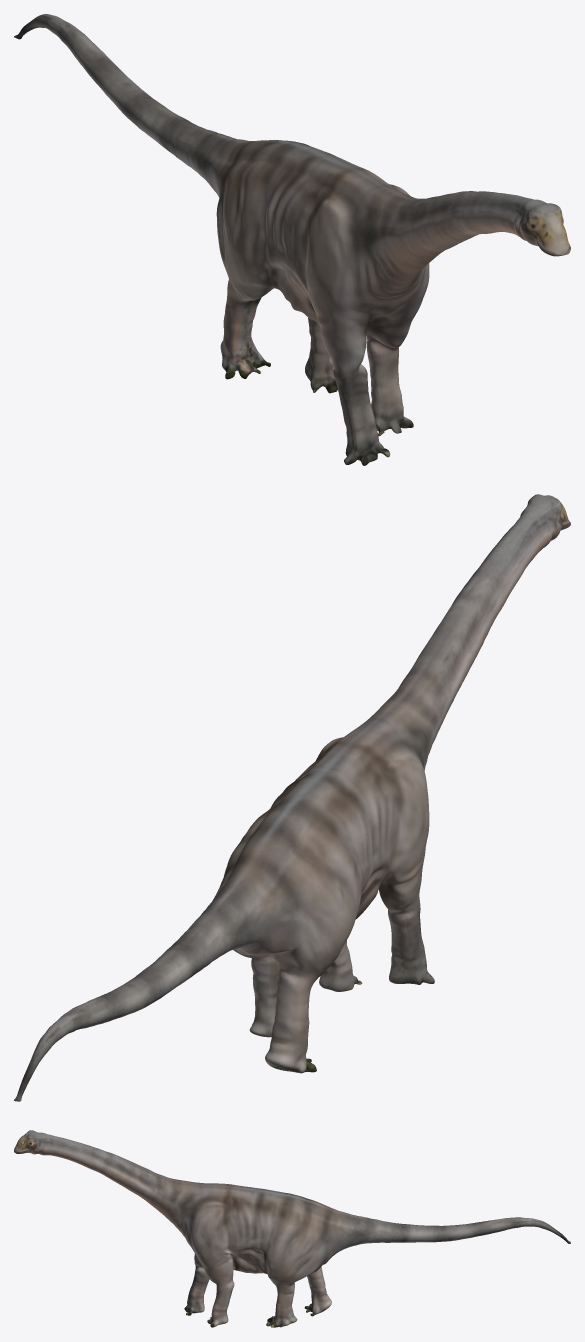
Rendered from Phuwiangosaurus_sirindhornae.glb.
The picture shows the model from 3 angles, top to bottom: view 1: azimuth 30°, elevation 25°; view 2: azimuth 150°, elevation 25°; view 3: azimuth 270°, elevation 25°; orthographic projection. The views are drawn at different scales.
Visible parts, largest first — view 1: tripo_node_db02496a-e2ba-4d2b-9181-2ccbf396bb56; view 2: tripo_node_db02496a-e2ba-4d2b-9181-2ccbf396bb56; view 3: tripo_node_db02496a-e2ba-4d2b-9181-2ccbf396bb56.
Boxes of the visible parts, left/top/right/bottom form: tripo_node_db02496a-e2ba-4d2b-9181-2ccbf396bb56: left=14, top=14, right=570, bottom=465; tripo_node_db02496a-e2ba-4d2b-9181-2ccbf396bb56: left=14, top=494, right=570, bottom=1101; tripo_node_db02496a-e2ba-4d2b-9181-2ccbf396bb56: left=14, top=1130, right=570, bottom=1327.
Bounding box in the file's own units: 0.1208 × 0.3674 × 1.
Materials: 1 (1 with a texture image).
